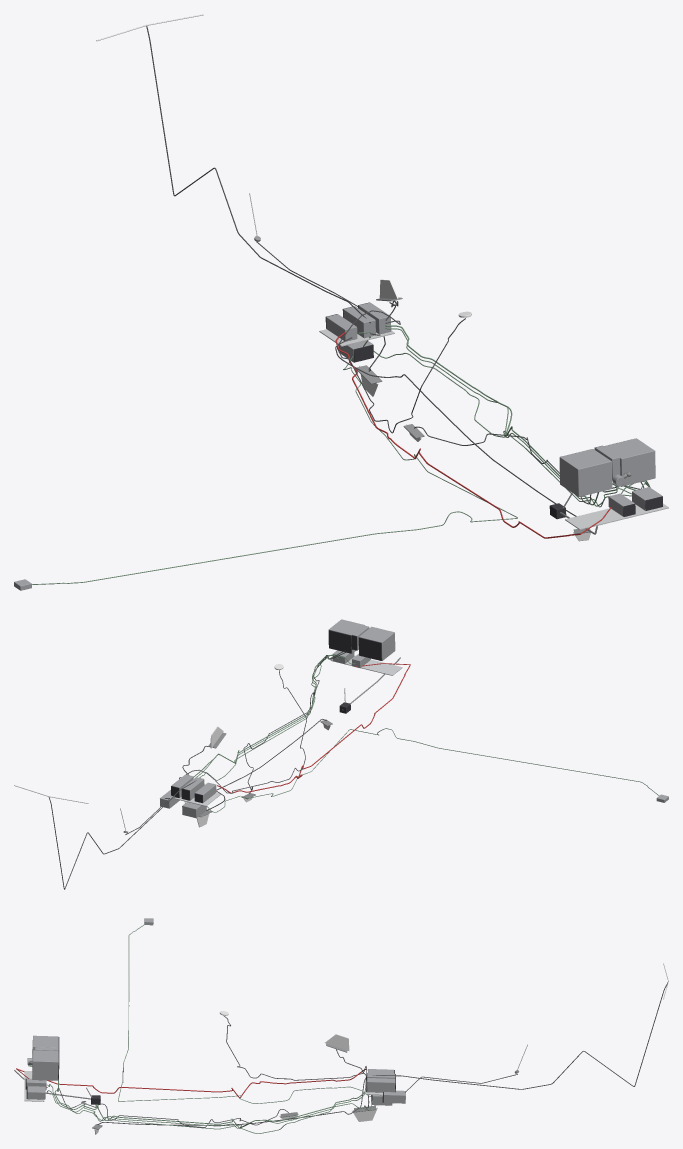
The model's file is da40-avionics.glb.
3 renders of one model, top to bottom at view 1: azimuth 30°, elevation 25°; view 2: azimuth 150°, elevation 25°; view 3: azimuth 270°, elevation 25°, orthographic. The views are drawn at different scales.
Visible parts, largest first — view 1: GDU 1040 Multi Function Display (MFD), GDU 1040 Primary Flight Display (PFD), RS-485: GMU 44 (RH wing) -> GRS 77 AHRS, Instrument panel shelf; view 2: RS-485: GMU 44 (RH wing) -> GRS 77 AHRS, GDU 1040 Multi Function Display (MFD), GDU 1040 Primary Flight Display (PFD) — front face, GDU 1040 Multi Function Display (MFD) — front face, Instrument panel shelf, Avionic bus power -> rear avionics rack, Coax: VHF-NAV dipole -> GIA 63W No 1 / No 2; view 3: GDU 1040 Primary Flight Display (PFD), RS-485: GMU 44 (RH wing) -> GRS 77 AHRS, Avionic bus power -> rear avionics rack, HSDB: rear rack GIA 63W -> displays (LH floor run), Coax: VHF-NAV dipole -> GIA 63W No 1 / No 2, ARINC 429: GDC 74A (panel shelf) -> GRS 77 / GIA, RS-232: GEA 71 (panel shelf) -> GIA 63W, GIA 63W No 1 (COM 1 / NAV 1 / GPS 1) — rear avionics rack, Coax: transponder antenna -> GTX 33, Coax: marker antenna -> GMA 1347 (marker beacon receiver), GDU 1040 Multi Function Display (MFD).
Boxes of the visible parts, x1,y1,x2,y2 form: GDU 1040 Multi Function Display (MFD): (559, 449, 612, 496); GDU 1040 Primary Flight Display (PFD): (604, 438, 655, 486); RS-485: GMU 44 (RH wing) -> GRS 77 AHRS: (32, 356, 517, 584); Instrument panel shelf: (565, 503, 668, 529); RS-485: GMU 44 (RH wing) -> GRS 77 AHRS: (206, 728, 659, 812); GDU 1040 Multi Function Display (MFD): (358, 626, 395, 660); GDU 1040 Primary Flight Display (PFD) — front face: (328, 630, 351, 653); GDU 1040 Multi Function Display (MFD) — front face: (358, 637, 381, 660); Instrument panel shelf: (330, 655, 402, 675); Avionic bus power -> rear avionics rack: (217, 664, 410, 792); Coax: VHF-NAV dipole -> GIA 63W No 1 / No 2: (48, 780, 196, 889); GDU 1040 Primary Flight Display (PFD): (32, 1050, 58, 1080); RS-485: GMU 44 (RH wing) -> GRS 77 AHRS: (118, 923, 371, 1103); Avionic bus power -> rear avionics rack: (17, 1068, 367, 1098); HSDB: rear rack GIA 63W -> displays (LH floor run): (54, 1079, 365, 1128); Coax: VHF-NAV dipole -> GIA 63W No 1 / No 2: (372, 982, 667, 1089); ARINC 429: GDC 74A (panel shelf) -> GRS 77 / GIA: (46, 1090, 372, 1133); RS-232: GEA 71 (panel shelf) -> GIA 63W: (47, 1084, 365, 1128); GIA 63W No 1 (COM 1 / NAV 1 / GPS 1) — rear avionics rack: (366, 1078, 395, 1092); Coax: transponder antenna -> GTX 33: (97, 1078, 365, 1125); Coax: marker antenna -> GMA 1347 (marker beacon receiver): (57, 1088, 288, 1127); GDU 1040 Multi Function Display (MFD): (32, 1035, 58, 1057).
Size of the model in its own units: 4.47 by 1.61 by 6.51.
